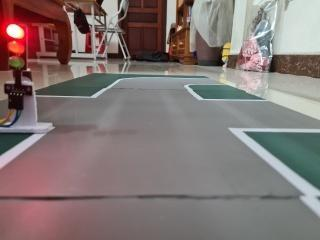red: (1, 17, 35, 80)
